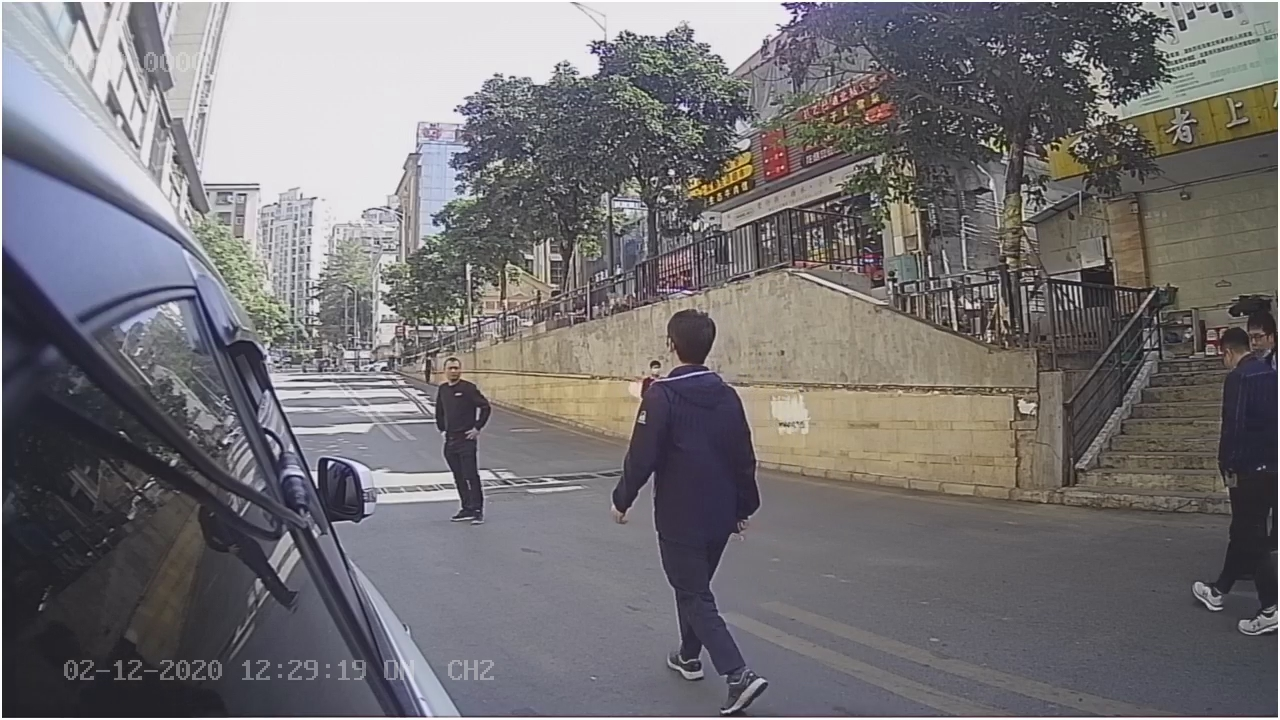person: (609, 304, 787, 715), (423, 352, 509, 536)
